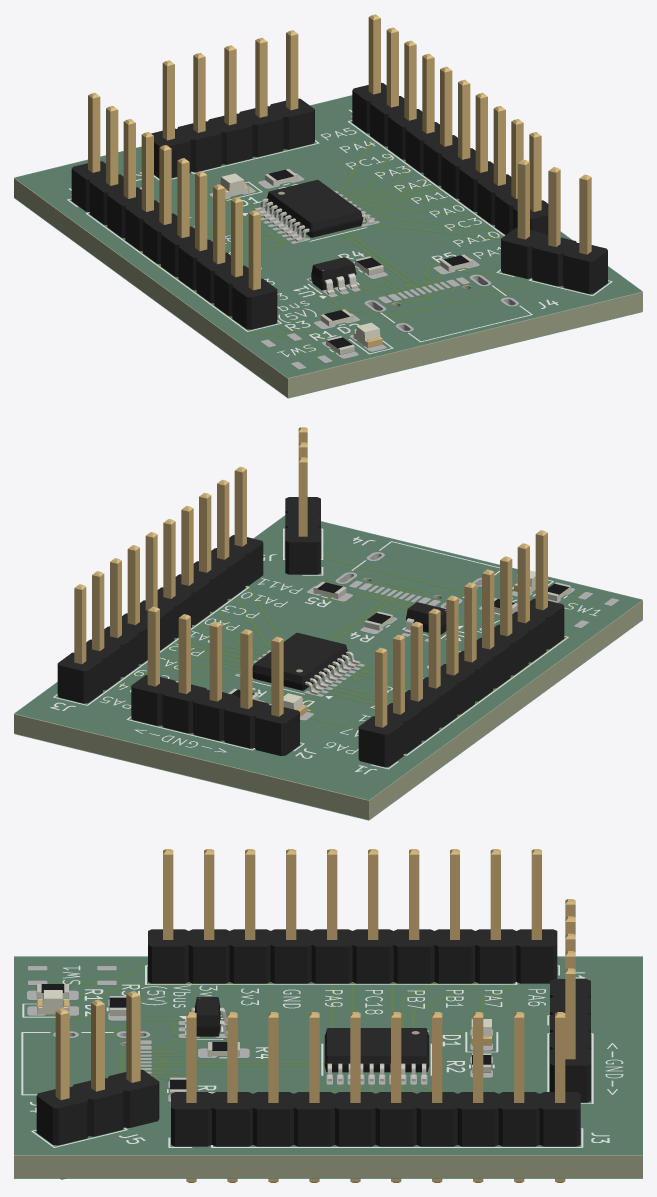
File: 3dModel.glb
3 views of the same model, one above another, from view 1: azimuth 30°, elevation 25°; view 2: azimuth 150°, elevation 25°; view 3: azimuth 270°, elevation 25° (orthographic). The views are drawn at different scales.
Parts seen in each view (by area): view 1: =>[0:1:1:25], =>[0:1:1:23], =>[0:1:1:11] (×2), =>[0:1:1:7], =>[0:1:1:15], =>[0:1:1:13], =>[0:1:1:21], =>[0:1:1:19], =>[0:1:1:18], =>[0:1:1:3], =>[0:1:1:24], =>[0:1:1:5]; view 2: =>[0:1:1:25], =>[0:1:1:23], =>[0:1:1:11] (×2), =>[0:1:1:7], =>[0:1:1:13], =>[0:1:1:21], =>[0:1:1:15], =>[0:1:1:19], =>[0:1:1:18], =>[0:1:1:24], =>[0:1:1:3]; view 3: =>[0:1:1:25], =>[0:1:1:11] (×2), =>[0:1:1:23], =>[0:1:1:15], =>[0:1:1:21], =>[0:1:1:7], =>[0:1:1:13], =>[0:1:1:19], =>[0:1:1:18], =>[0:1:1:3], =>[0:1:1:5], =>[0:1:1:24].
Boxes of the visible parts, <box> form: =>[0:1:1:25]: <box>14,96,642,397</box>; =>[0:1:1:23]: <box>14,95,642,377</box>; =>[0:1:1:11] (×2): <box>71,14,548,329</box>; =>[0:1:1:7]: <box>151,30,314,177</box>; =>[0:1:1:15]: <box>501,159,607,293</box>; =>[0:1:1:13]: <box>254,180,374,241</box>; =>[0:1:1:21]: <box>67,109,612,356</box>; =>[0:1:1:19]: <box>209,173,518,369</box>; =>[0:1:1:18]: <box>141,140,534,358</box>; =>[0:1:1:3]: <box>309,257,358,294</box>; =>[0:1:1:24]: <box>14,198,642,398</box>; =>[0:1:1:5]: <box>353,322,382,348</box>; =>[0:1:1:25]: <box>14,517,642,819</box>; =>[0:1:1:23]: <box>14,515,642,799</box>; =>[0:1:1:11] (×2): <box>57,466,564,766</box>; =>[0:1:1:7]: <box>131,606,299,755</box>; =>[0:1:1:13]: <box>239,632,360,694</box>; =>[0:1:1:21]: <box>50,528,600,774</box>; =>[0:1:1:15]: <box>285,427,320,574</box>; =>[0:1:1:19]: <box>235,552,618,720</box>; =>[0:1:1:18]: <box>113,558,581,729</box>; =>[0:1:1:24]: <box>14,620,642,820</box>; =>[0:1:1:3]: <box>404,602,446,638</box>; =>[0:1:1:25]: <box>14,958,642,1177</box>; =>[0:1:1:11] (×2): <box>148,849,580,1182</box>; =>[0:1:1:23]: <box>14,956,642,1155</box>; =>[0:1:1:15]: <box>36,991,159,1179</box>; =>[0:1:1:21]: <box>21,965,623,1147</box>; =>[0:1:1:7]: <box>550,899,590,1102</box>; =>[0:1:1:13]: <box>324,1028,429,1081</box>; =>[0:1:1:19]: <box>27,966,492,1102</box>; =>[0:1:1:18]: <box>45,968,518,1095</box>; =>[0:1:1:3]: <box>185,997,227,1036</box>; =>[0:1:1:5]: <box>37,990,69,1014</box>; =>[0:1:1:24]: <box>14,1178,642,1178</box>.
Size of the model in its own units: 0.0292 by 0.0115 by 0.039.
